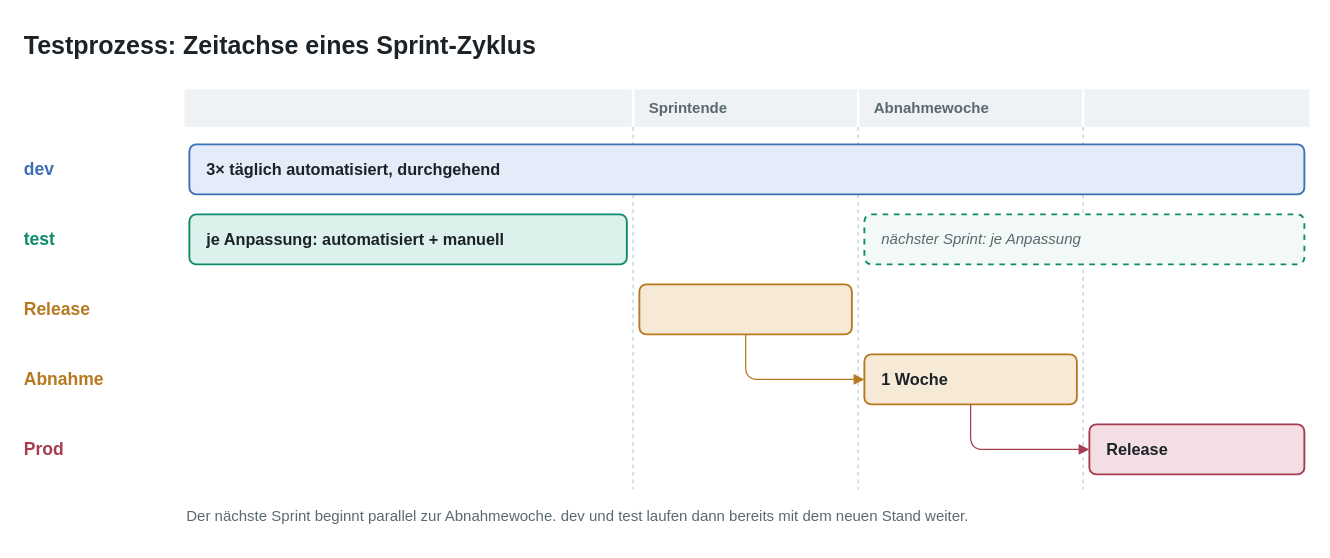
This 1330x558 diagram has some shape labels left out. The centre of each missing label's shape, as x and y in pixels:
danach: pixel 1196 107
Release schnüren: pixel 745 309
Sprint: pixel 407 107
